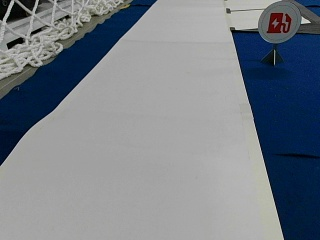battery: (257, 0, 300, 43)
